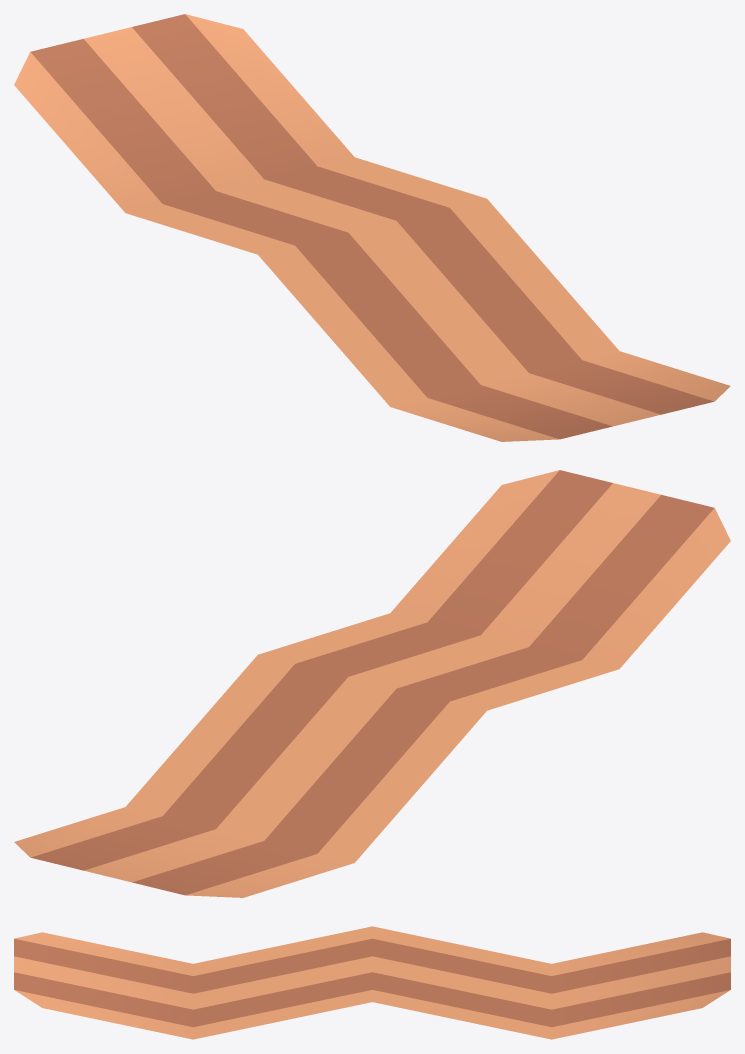
Rendered from bacon.obj.
3 views of the same model, one above another, from view 1: azimuth 30°, elevation 25°; view 2: azimuth 150°, elevation 25°; view 3: azimuth 270°, elevation 25° (orthographic). The views are drawn at different scales.
Parts seen in each view (by area): view 1: bacon; view 2: bacon; view 3: bacon.
Boxes of the visible parts, bbox=[...] form: bacon: bbox=[14, 14, 730, 441]; bacon: bbox=[14, 470, 730, 897]; bacon: bbox=[14, 926, 730, 1039].
Bounding box in the file's own units: 0.13 × 0.03 × 0.52.
